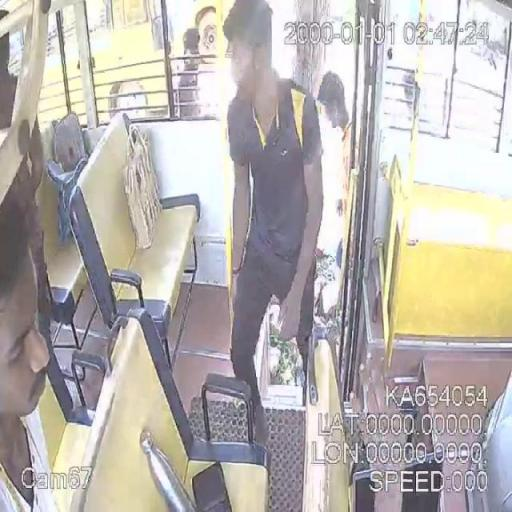persona: (222, 2, 325, 443)
